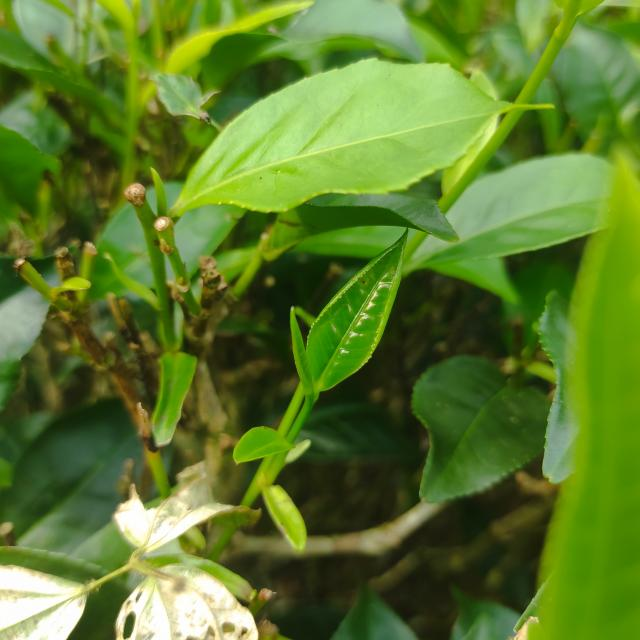unopened_leaf: (279, 294, 321, 413)
